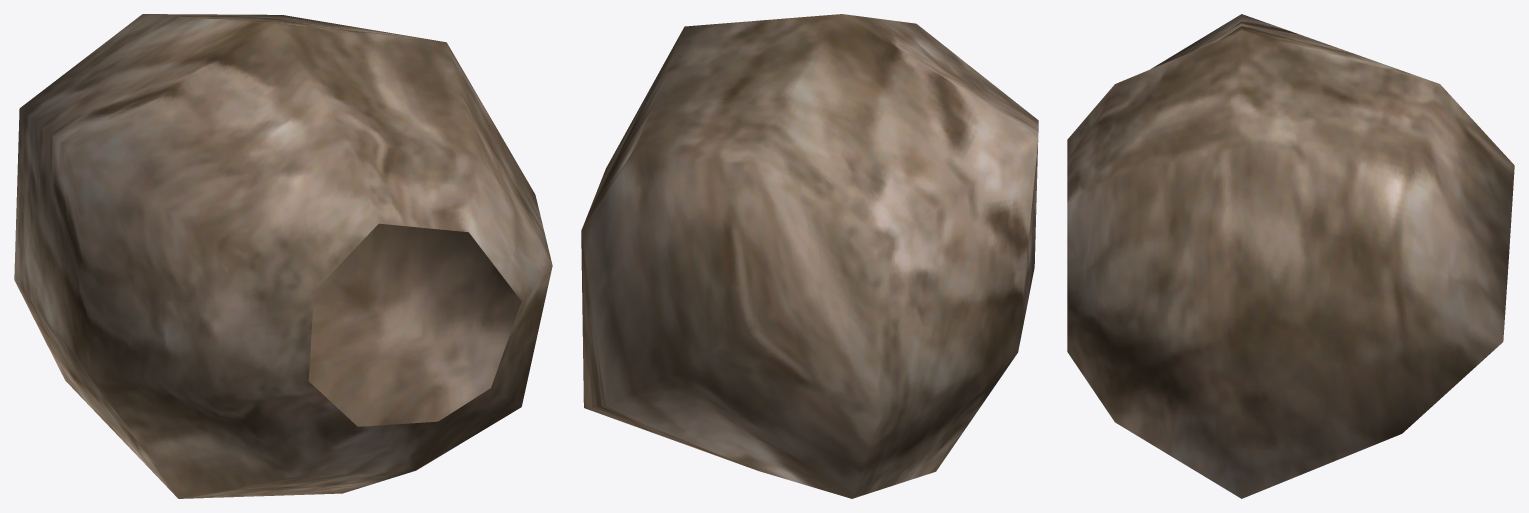
Rendered from OVERHILL_A_01_ROCK70.fbx.
3 renders of one model, left to right at view 1: azimuth 30°, elevation 25°; view 2: azimuth 150°, elevation 25°; view 3: azimuth 270°, elevation 25°, orthographic. The views are drawn at different scales.
Visible parts, largest first — view 1: OVERHILL_A_01_ROCK70; view 2: OVERHILL_A_01_ROCK70; view 3: OVERHILL_A_01_ROCK70.
Boxes of the visible parts, <box> form: OVERHILL_A_01_ROCK70: <box>14,14,552,498</box>; OVERHILL_A_01_ROCK70: <box>581,14,1038,498</box>; OVERHILL_A_01_ROCK70: <box>1067,14,1514,498</box>.
Bounding box in the file's own units: 9944 × 10125 × 9837.
Materials: 1 (1 with a texture image).
